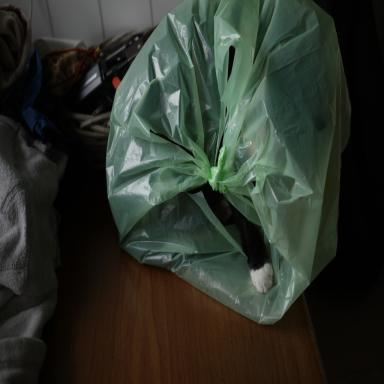plasticbag: (106, 0, 352, 322)
